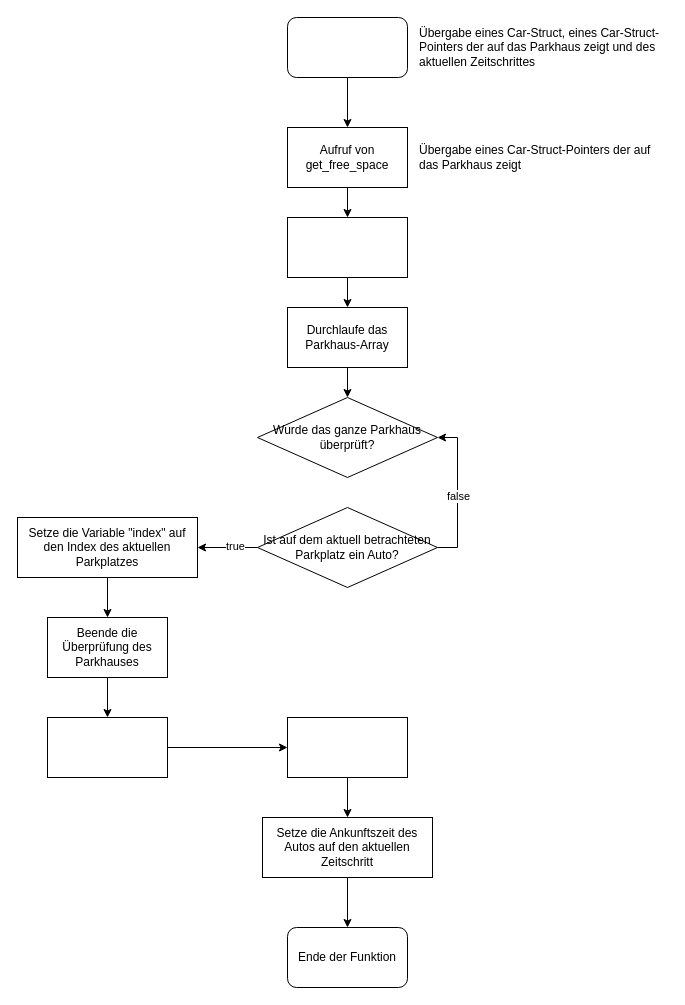
Some shapes in this 685 by 1005 pixel diagram are drawn without their labels. Each missing label, with the centre of its shape:
Aufruf von park_car: (347,47)
Gebe den Wert von "index" zurück: (107,747)
Initialisiere die Variable "index": (347,247)
Parke das Auto im Parkplatz mit diesem Index: (347,747)
